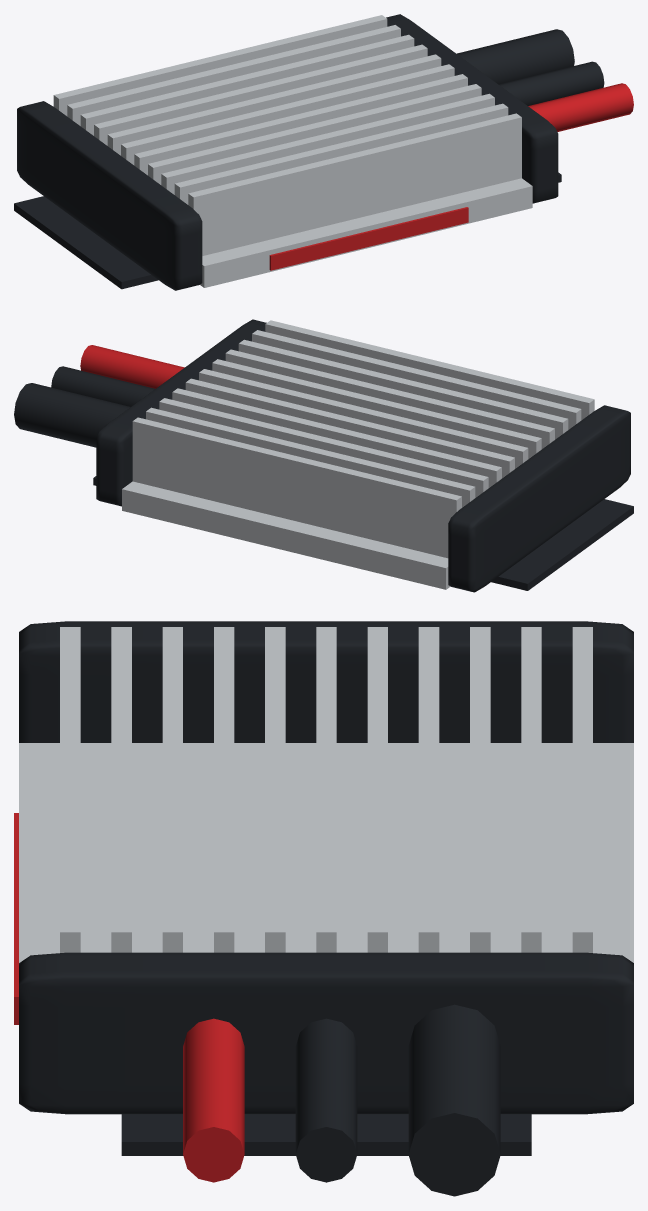
Rendered from redarc_bcdc1250d.glb.
The picture shows the model from 3 angles, top to bottom: view 1: azimuth 30°, elevation 25°; view 2: azimuth 150°, elevation 25°; view 3: azimuth 270°, elevation 25°; orthographic projection. The views are drawn at different scales.
Visible parts, largest first — view 1: redarc_bcdc1250d; view 2: redarc_bcdc1250d; view 3: redarc_bcdc1250d.
Boxes of the visible parts, x1,y1,x2,y2 form: redarc_bcdc1250d: (14,14,633,290); redarc_bcdc1250d: (14,319,633,592); redarc_bcdc1250d: (14,621,633,1196).
Size of the model in its own units: 0.227 by 0.037 by 0.121.
